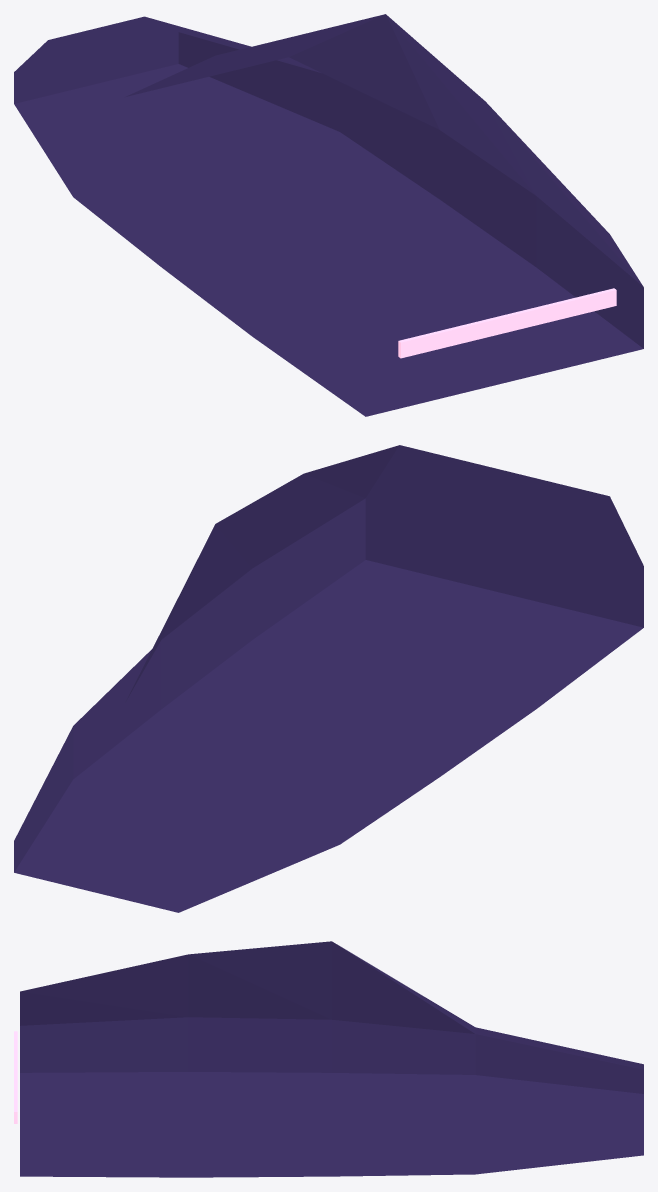
Rendered from 05_night_interceptor.glb.
3 renders of one model, top to bottom at view 1: azimuth 30°, elevation 25°; view 2: azimuth 150°, elevation 25°; view 3: azimuth 270°, elevation 25°, orthographic. The views are drawn at different scales.
Parts seen in each view (by area): view 1: Night Interceptor; view 2: Night Interceptor; view 3: Night Interceptor.
Boxes of the visible parts, left/top/right/bottom form: Night Interceptor: left=14, top=14, right=643, bottom=416; Night Interceptor: left=14, top=445, right=643, bottom=912; Night Interceptor: left=14, top=941, right=643, bottom=1177.
Bounding box in the file's own units: 1.9 × 1.27 × 4.78.
